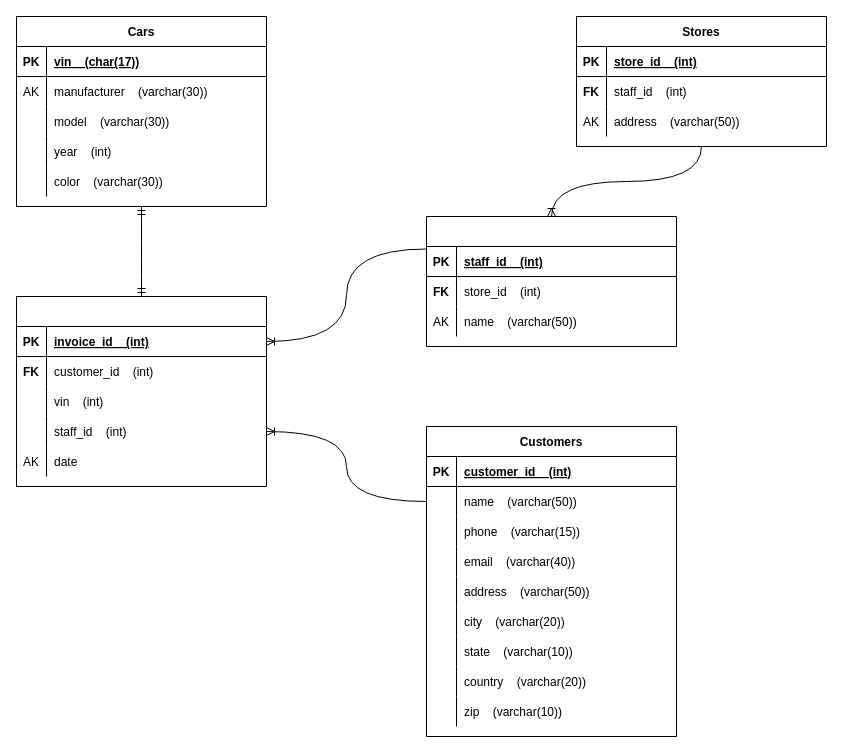
This 843x753 diagram has some shape labels left out. The shapes that lost their labels are listed below. From the top down, each one's box as (x1, y1, x2, y2) in pixels, then its label:
(426, 216, 676, 346): Salespersons
(16, 296, 266, 486): Invoices
